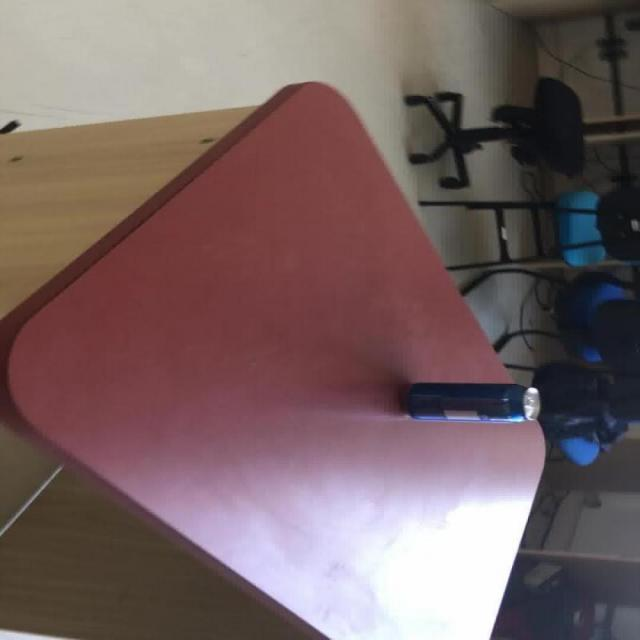Tonic: (1, 80, 546, 638), (404, 381, 541, 423)
